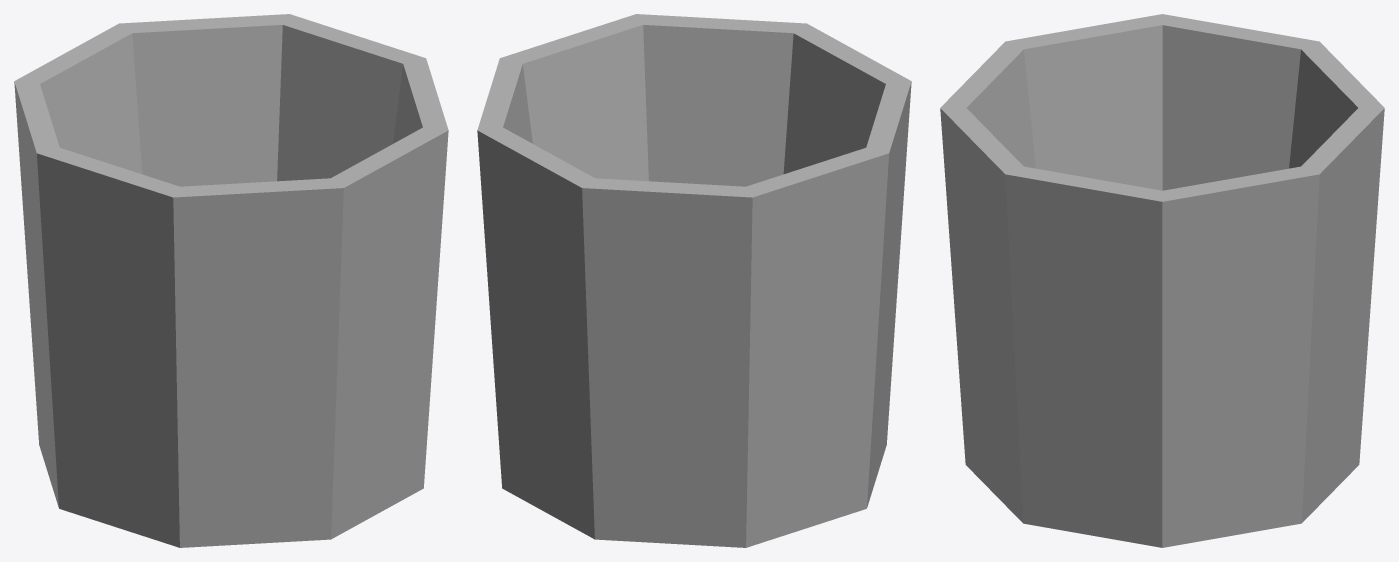
The model's file is cup.fbx.
The picture shows the model from 3 angles, left to right: view 1: azimuth 30°, elevation 25°; view 2: azimuth 150°, elevation 25°; view 3: azimuth 270°, elevation 25°; orthographic projection.
Parts seen in each view (by area): view 1: cup; view 2: cup; view 3: cup.
Boxes of the visible parts, x1=… form: cup: x1=14, y1=14, x2=448, y2=547; cup: x1=477, y1=14, x2=911, y2=547; cup: x1=940, y1=14, x2=1384, y2=547.
Bounding box in the file's own units: 13.56 × 12.01 × 13.56.
